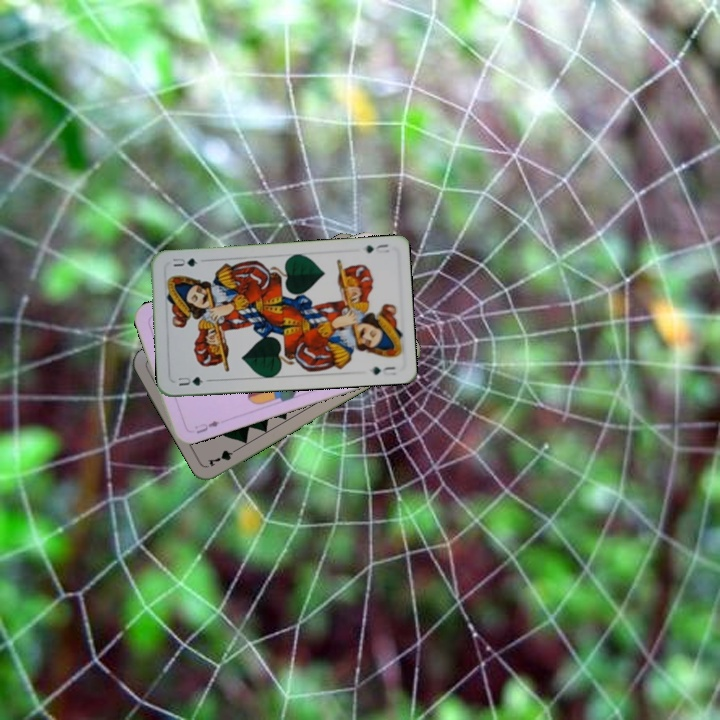EU: (190, 417, 222, 436)
G7: (204, 443, 243, 469)
GU: (174, 372, 206, 389), (361, 240, 392, 256)
